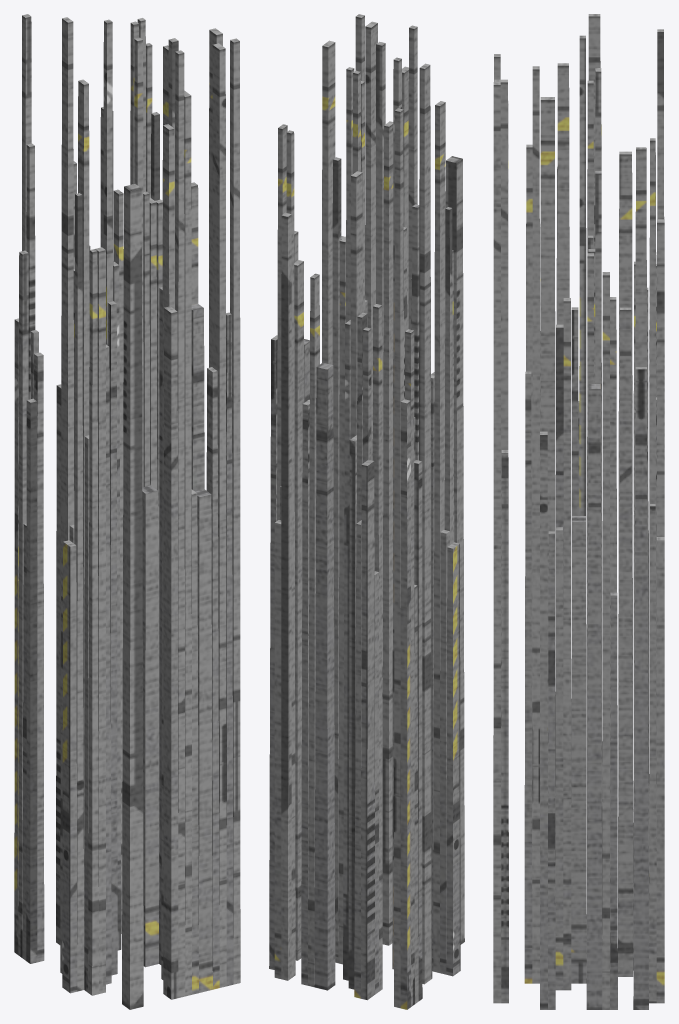
File: SFBuildings_1.fbx
3 renders of one model, left to right at view 1: azimuth 30°, elevation 25°; view 2: azimuth 150°, elevation 25°; view 3: azimuth 270°, elevation 25°, orthographic. The views are drawn at different scales.
Visible parts, largest first — view 1: discombobulated_mesh; view 2: discombobulated_mesh; view 3: discombobulated_mesh.
Boxes of the visible parts, left/top/right/bottom form: discombobulated_mesh: left=14, top=14, right=240, bottom=1009; discombobulated_mesh: left=269, top=14, right=464, bottom=1009; discombobulated_mesh: left=493, top=14, right=664, bottom=1009.
Size of the model in its own units: 1190 by 7134 by 1190.
